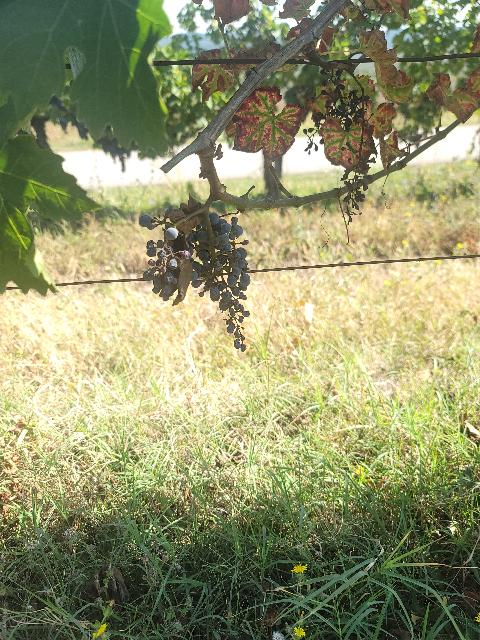grapes: (140, 208, 250, 351)
